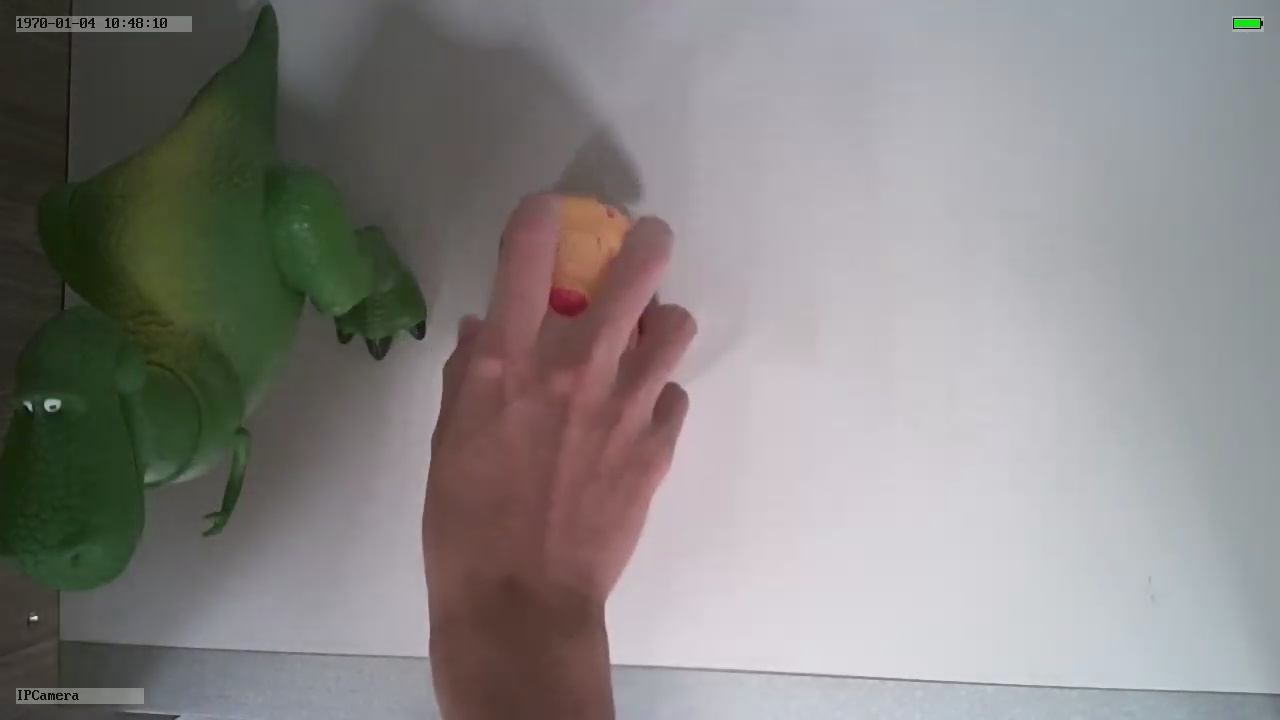rex: (1, 95, 431, 592)
